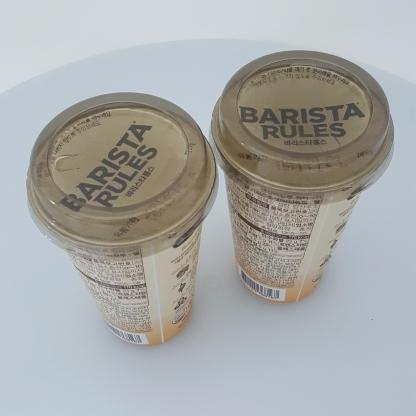------------------325ML: (26, 92, 219, 347), (208, 50, 395, 304)
